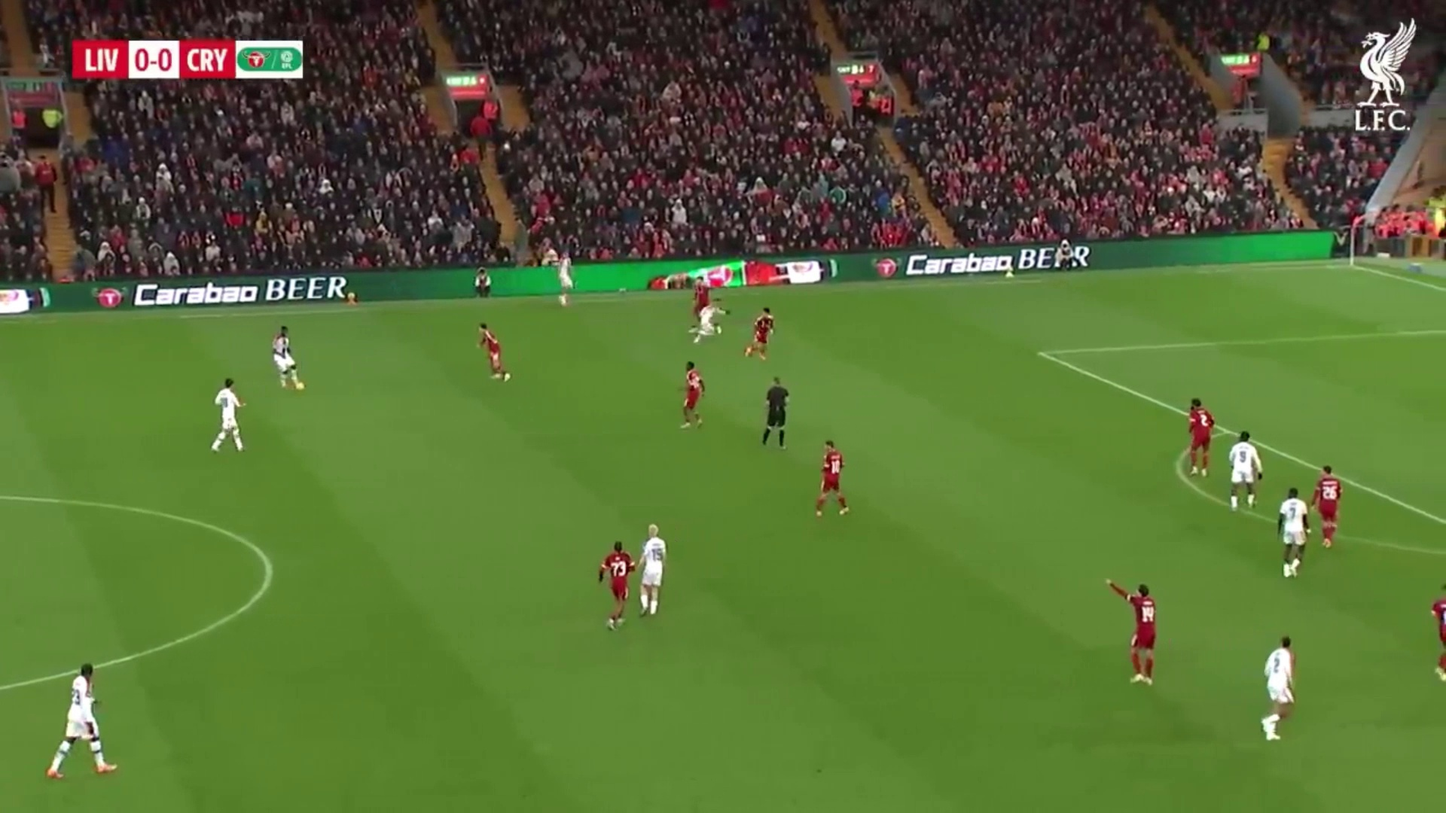player: (43, 663, 113, 778), (1113, 582, 1158, 686), (1262, 635, 1297, 742), (599, 542, 635, 630), (1277, 489, 1311, 580), (1227, 430, 1264, 513), (813, 440, 851, 520), (636, 525, 667, 619), (1130, 584, 1157, 686), (1313, 463, 1343, 549), (211, 377, 244, 454), (271, 326, 306, 393), (1185, 398, 1214, 475), (1425, 589, 1446, 692), (762, 379, 789, 449), (478, 323, 509, 382), (742, 308, 776, 361), (680, 364, 706, 430), (1433, 591, 1445, 690), (474, 269, 490, 298)
